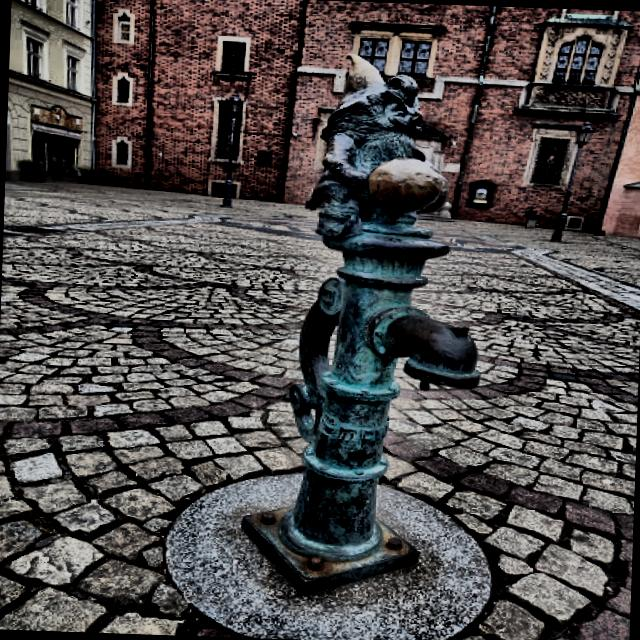Orzezwiacz: (277, 54, 479, 563)
